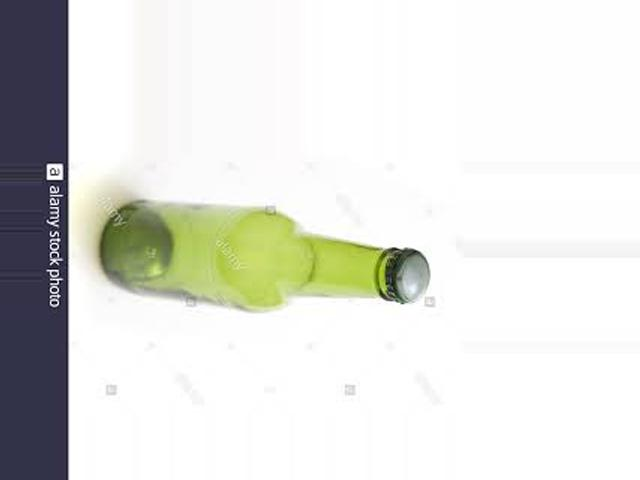beer: (99, 201, 429, 304)
